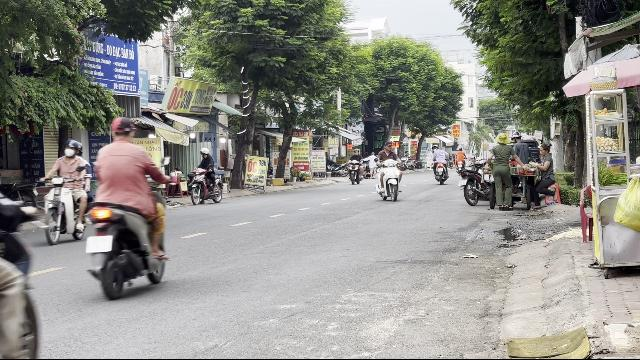helmet: (64, 139, 80, 157)
licenseplate: (86, 236, 112, 253)
motorcyclist: (83, 115, 171, 298), (40, 138, 90, 244)
nohelmet: (109, 116, 135, 142)
